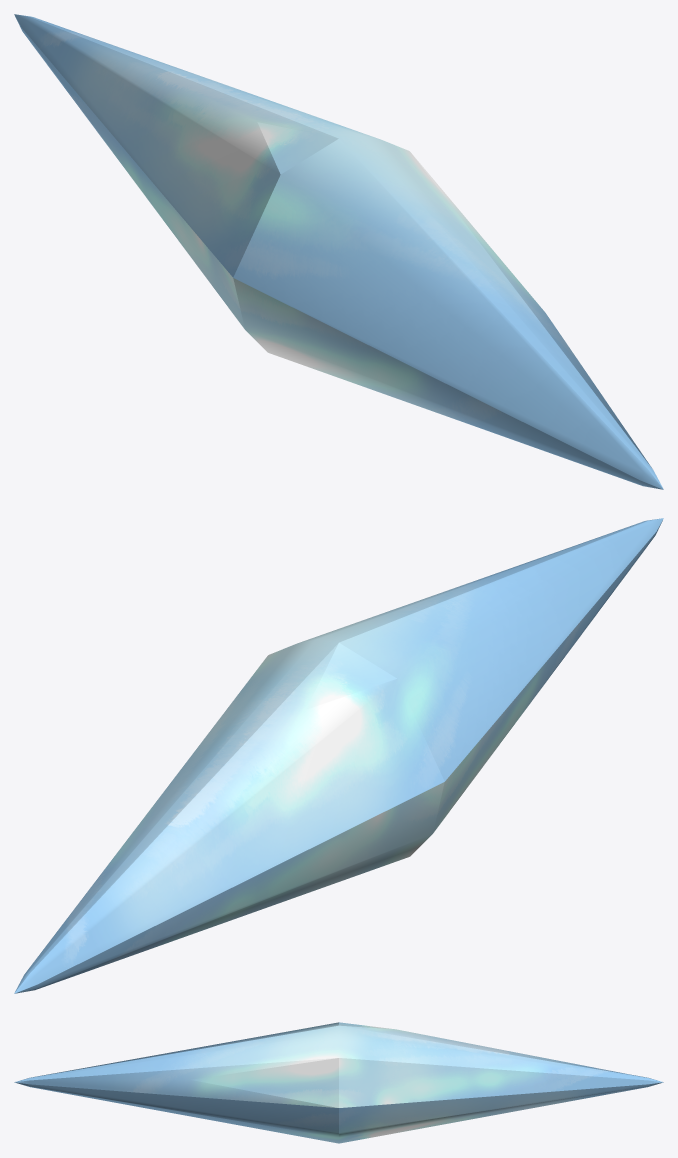
Rendered from blizzard_1.fbx.
The picture shows the model from 3 angles, top to bottom: view 1: azimuth 30°, elevation 25°; view 2: azimuth 150°, elevation 25°; view 3: azimuth 270°, elevation 25°; orthographic projection. The views are drawn at different scales.
Visible parts, largest first — view 1: soto; view 2: soto; view 3: soto.
Boxes of the visible parts, box(x1,y1,x2,y2) form: soto: box(14, 14, 663, 489); soto: box(14, 518, 663, 993); soto: box(14, 1022, 663, 1143).
Size of the model in its own units: 27.61 by 27.9 by 147.
